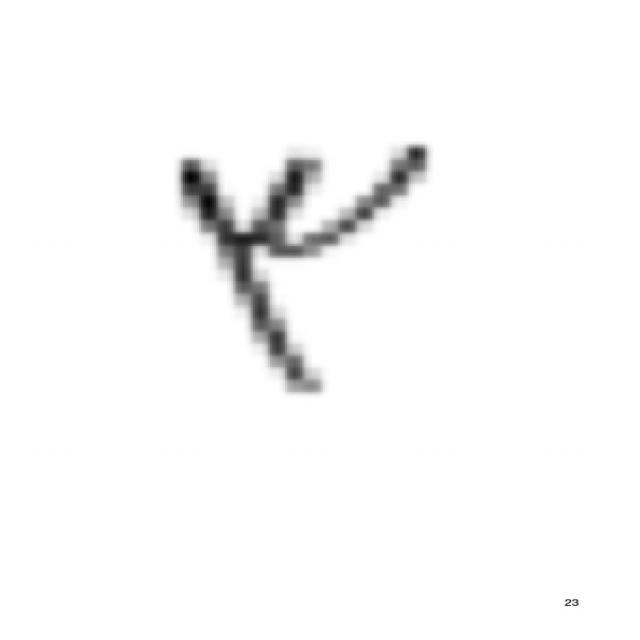3 -three-: (151, 128, 440, 410)
